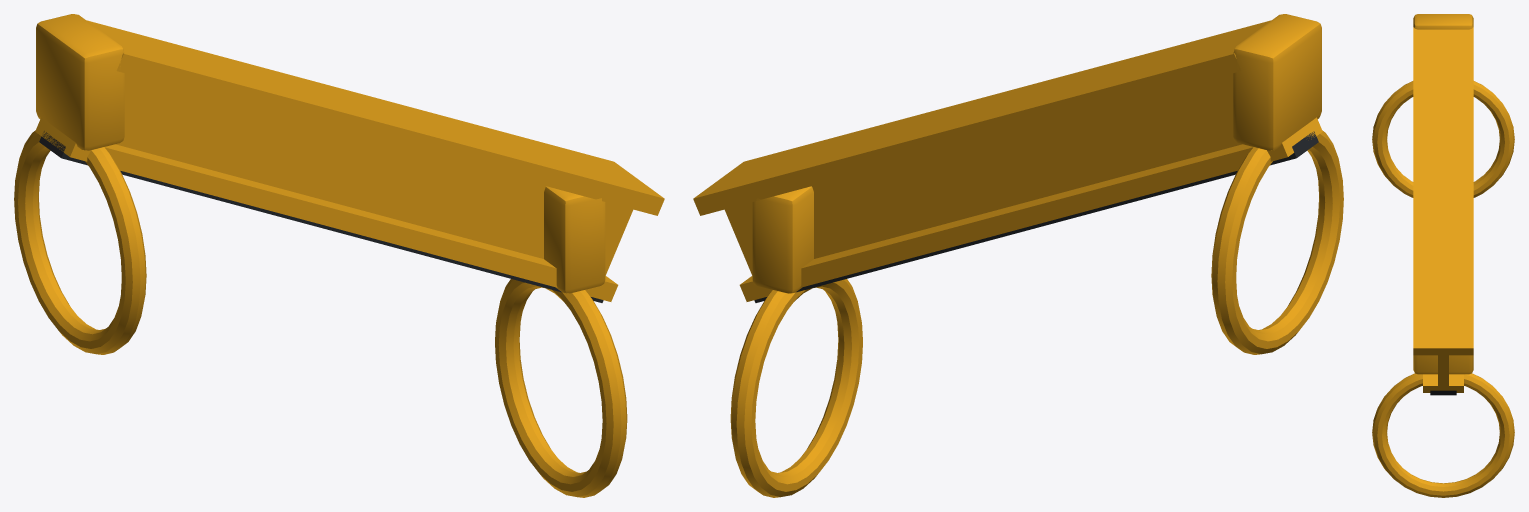
3 renders of one model, left to right at view 1: azimuth 30°, elevation 25°; view 2: azimuth 150°, elevation 25°; view 3: azimuth 270°, elevation 25°, orthographic. The views are drawn at different scales.
Visible parts, largest first — view 1: M-56; view 2: M-56; view 3: M-56.
Boxes of the visible parts, x1,y1,x2,y2 form: M-56: [14, 14, 664, 497]; M-56: [693, 14, 1343, 497]; M-56: [1372, 14, 1514, 497].
Bounding box in the file's own units: 0.1074 × 0.0998 × 0.038.
